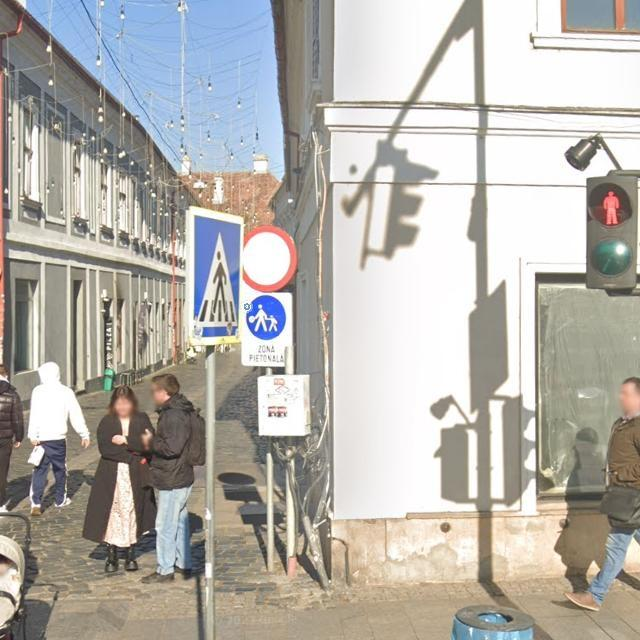info_crosswalk: (184, 205, 241, 342)
